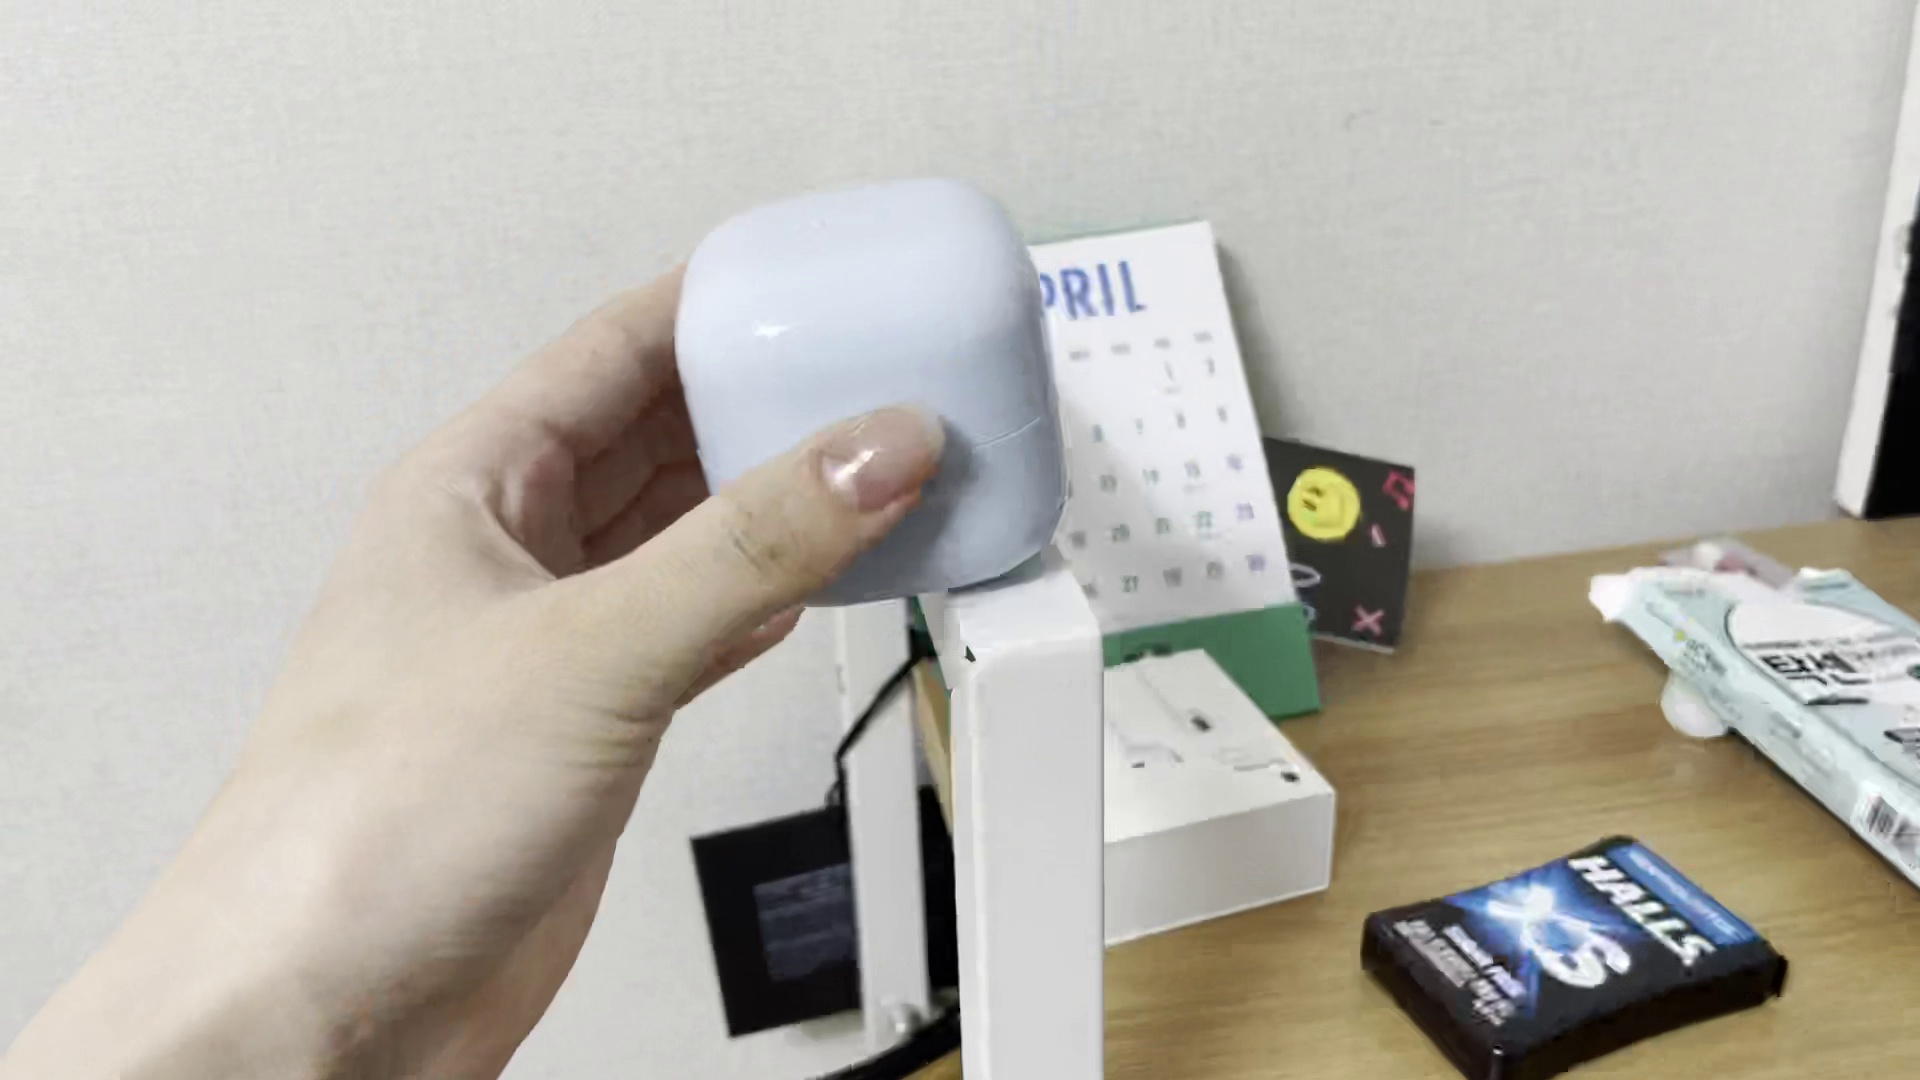cream: (673, 178, 1071, 596)
